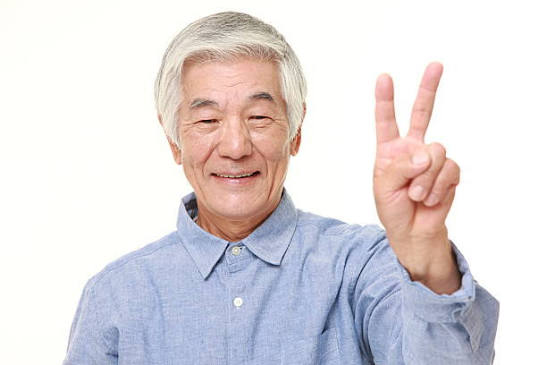peace_sign: (372, 52, 462, 238)
